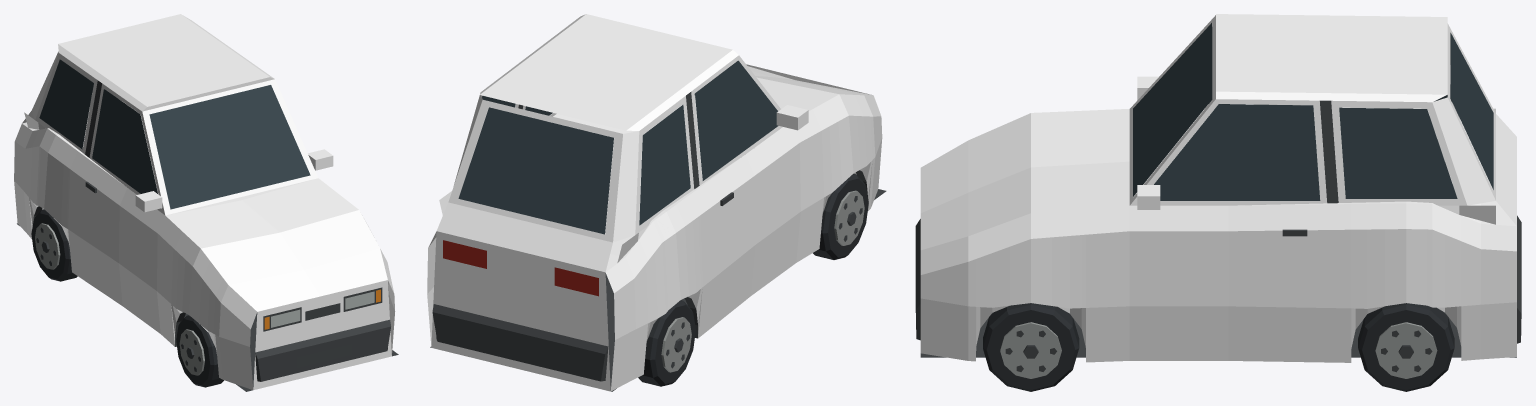
Rendered from ottavo_brina.glb.
The picture shows the model from 3 angles, left to right: view 1: azimuth 30°, elevation 25°; view 2: azimuth 150°, elevation 25°; view 3: azimuth 270°, elevation 25°; orthographic projection. The views are drawn at different scales.
Visible parts, largest first — view 1: ottavo_brina; view 2: ottavo_brina; view 3: ottavo_brina.
Boxes of the visible parts, x1,y1,x2,y2 form: ottavo_brina: (14,14,398,391); ottavo_brina: (427,14,886,391); ottavo_brina: (915,14,1521,391).
Size of the model in its own units: 1.48 by 1.66 by 3.18.
8 materials, 1 textured.
